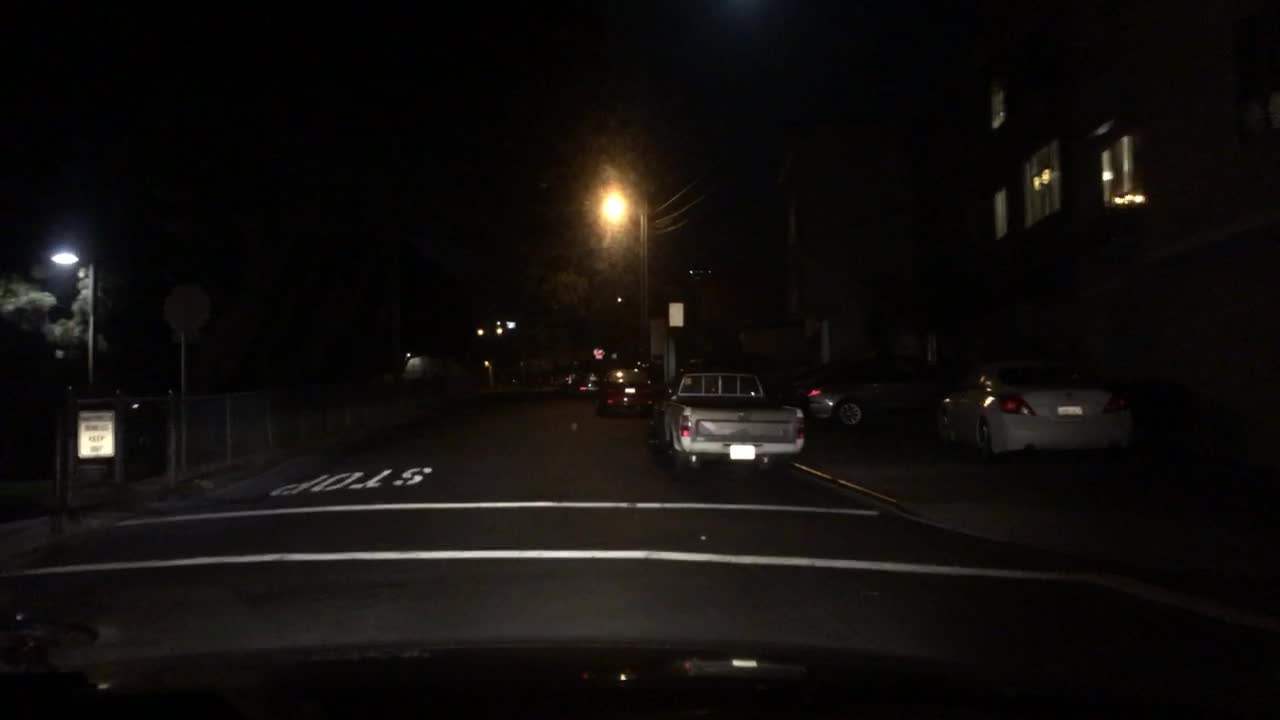car: (929, 354, 1142, 464), (788, 354, 955, 428), (593, 355, 644, 420), (635, 354, 712, 386), (561, 359, 605, 402), (730, 513, 755, 514)
traffic sign: (161, 280, 208, 333), (74, 407, 117, 457), (665, 299, 685, 329), (592, 345, 609, 359)
truck: (641, 369, 810, 477)
